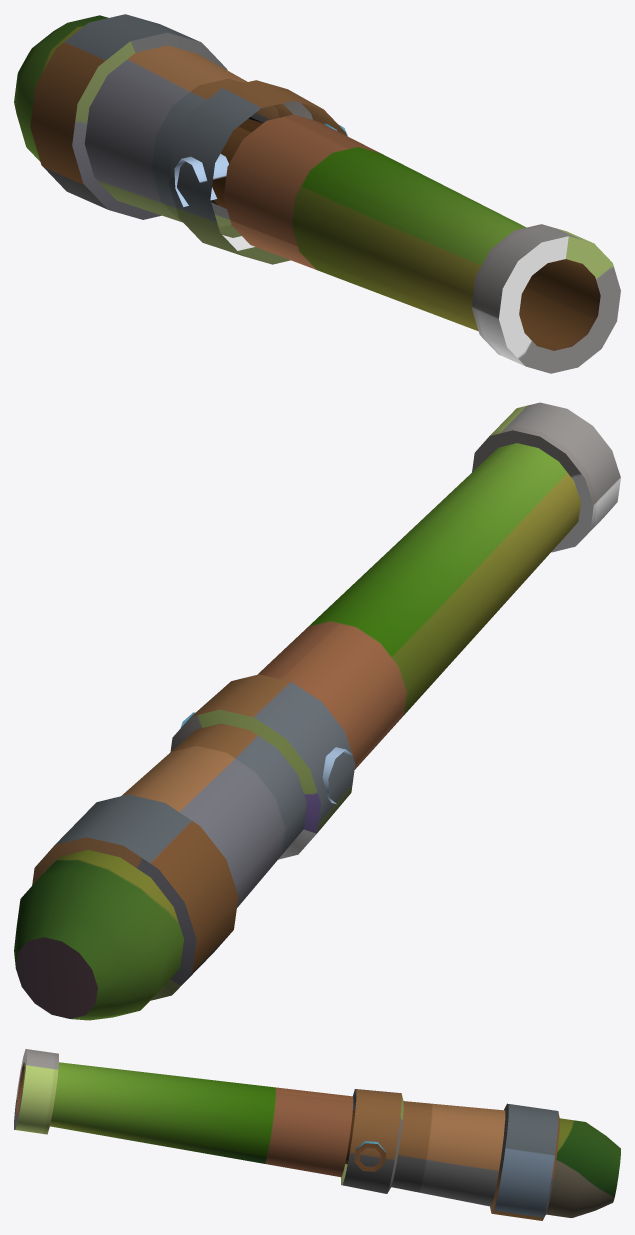
Rendered from CannonBarrel.gltf.
3 views of the same model, one above another, from view 1: azimuth 30°, elevation 25°; view 2: azimuth 150°, elevation 25°; view 3: azimuth 270°, elevation 25° (orthographic). The views are drawn at different scales.
Parts seen in each view (by area): view 1: Cannon; view 2: Cannon; view 3: Cannon.
Boxes of the visible parts, bbox=[...] form: Cannon: bbox=[14, 14, 620, 373]; Cannon: bbox=[14, 402, 620, 1020]; Cannon: bbox=[14, 1049, 620, 1220].
Size of the model in its own units: 0.6534 by 1.03 by 3.48.
